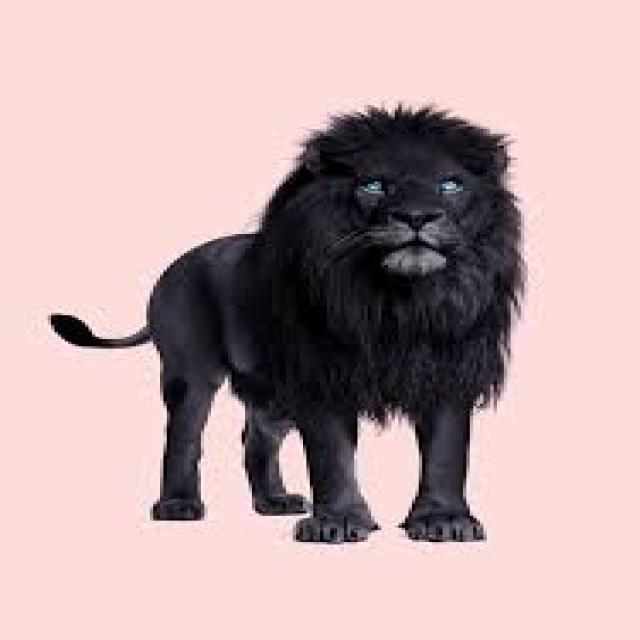Lion: (150, 116, 504, 540)
